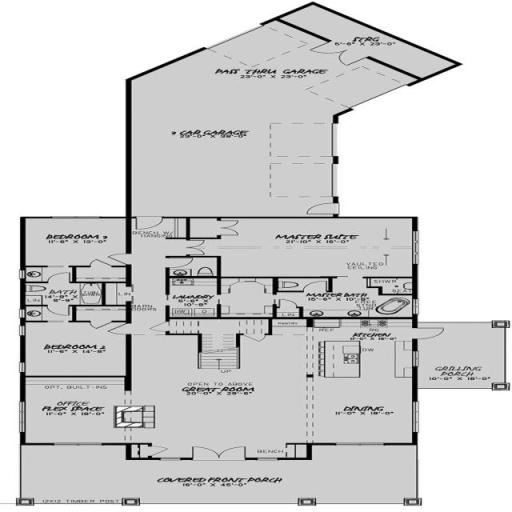Room: (308, 327, 416, 440), (30, 380, 116, 442)
bathroom: (275, 279, 409, 318)
bedroom: (26, 324, 116, 369), (31, 221, 117, 255)
garage: (139, 82, 337, 210)
hall: (142, 335, 300, 447), (190, 220, 407, 272)
laundary: (168, 279, 218, 320)
porch: (25, 448, 408, 501), (417, 324, 503, 390)
